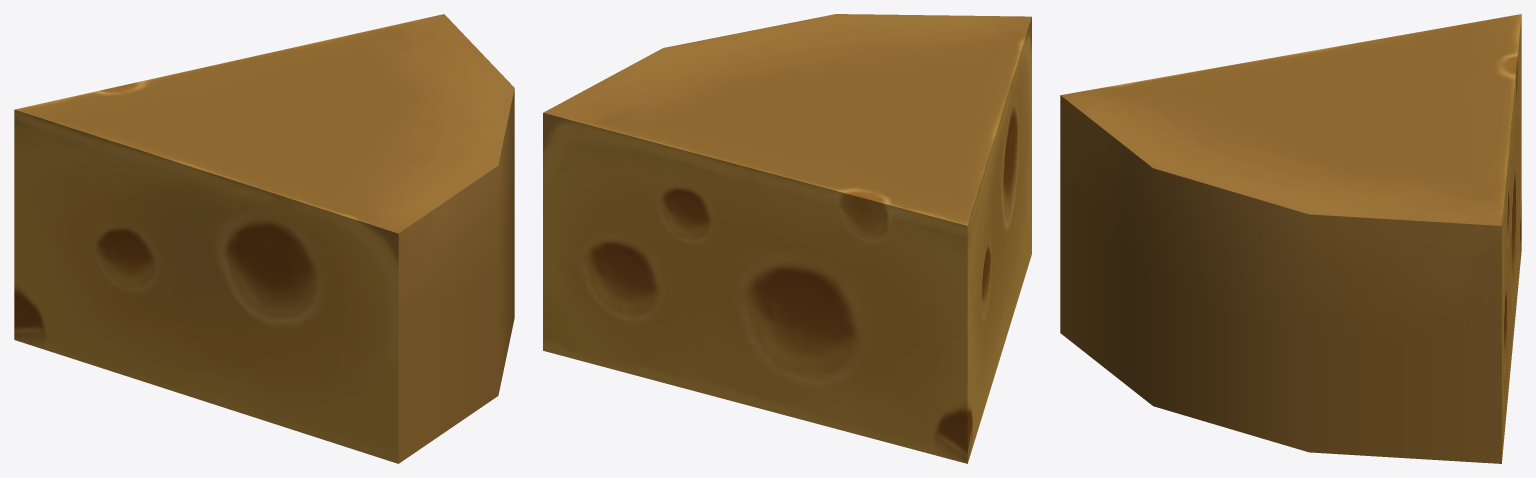
File: Chees_fourth.fbx
The picture shows the model from 3 angles, left to right: view 1: azimuth 30°, elevation 25°; view 2: azimuth 150°, elevation 25°; view 3: azimuth 270°, elevation 25°; orthographic projection. The views are drawn at different scales.
Visible parts, largest first — view 1: pCylinder174; view 2: pCylinder174; view 3: pCylinder174.
Boxes of the visible parts, x1=… form: pCylinder174: x1=14, y1=14, x2=514, y2=463; pCylinder174: x1=543, y1=14, x2=1031, y2=463; pCylinder174: x1=1060, y1=14, x2=1521, y2=463.
Size of the model in its own units: 0.3324 by 0.174 by 0.3056.
